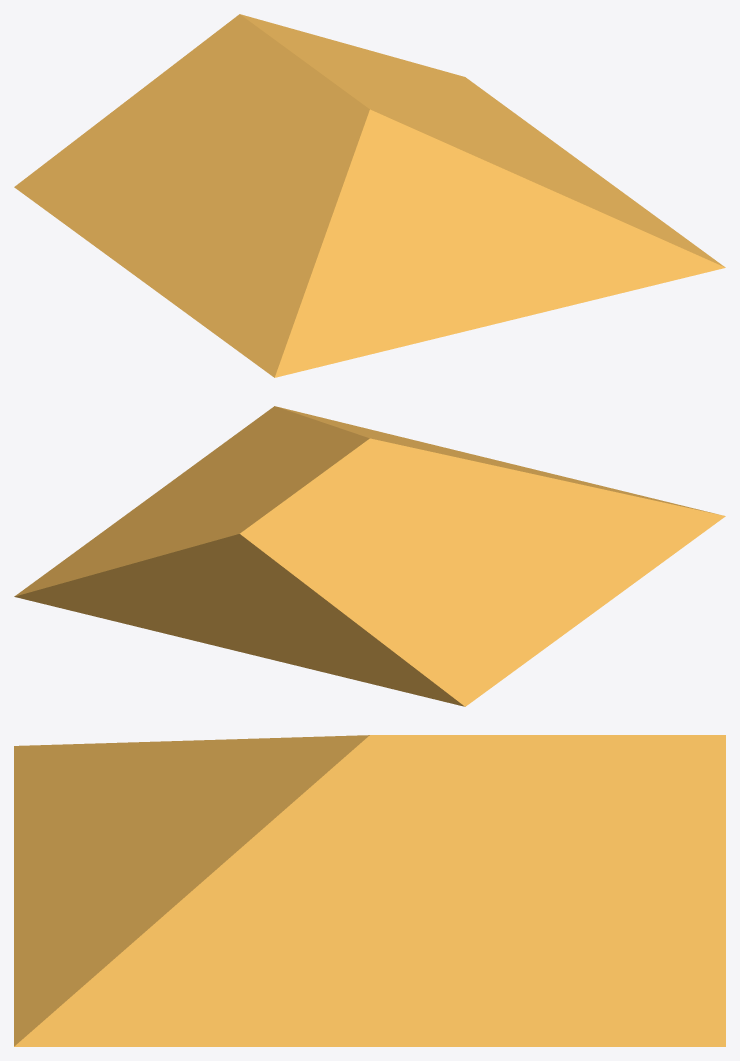
File: Roof-Shallow-4x4x1-Hip-End-Half-Ridge.FBX
3 renders of one model, top to bottom at view 1: azimuth 30°, elevation 25°; view 2: azimuth 150°, elevation 25°; view 3: azimuth 270°, elevation 25°, orthographic. The views are drawn at different scales.
Visible parts, largest first — view 1: Roof-Shallow-4x4x1-Hip-End-Half-Ridge; view 2: Roof-Shallow-4x4x1-Hip-End-Half-Ridge; view 3: Roof-Shallow-4x4x1-Hip-End-Half-Ridge.
Boxes of the visible parts, x1,y1,x2,y2 form: Roof-Shallow-4x4x1-Hip-End-Half-Ridge: (14, 14, 725, 377); Roof-Shallow-4x4x1-Hip-End-Half-Ridge: (14, 406, 725, 706); Roof-Shallow-4x4x1-Hip-End-Half-Ridge: (14, 735, 725, 1046).
Size of the model in its own units: 40 by 40 by 10.
